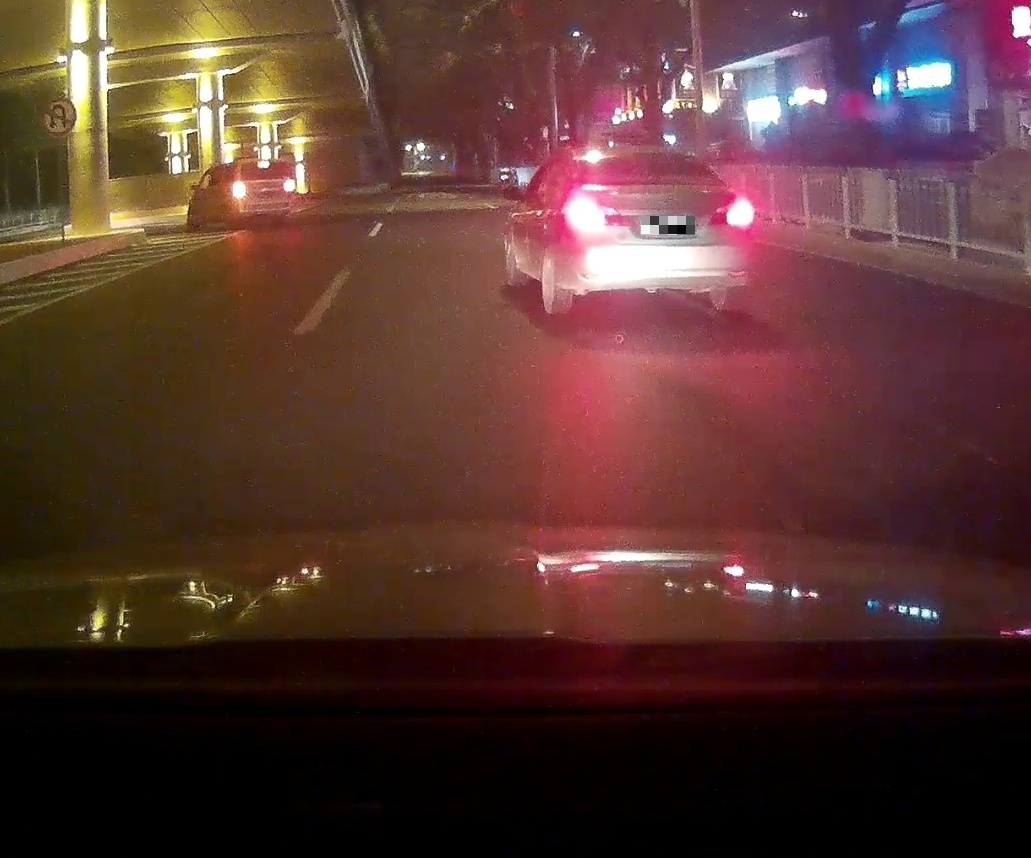L_light: (565, 196, 623, 229), (232, 181, 245, 197)
R_light: (707, 198, 753, 228), (282, 179, 296, 192)
T_light: (635, 153, 656, 158), (257, 161, 270, 168)
night-left: (232, 159, 296, 225)
night-no: (560, 147, 754, 315)
plate_1: (641, 216, 695, 235)
